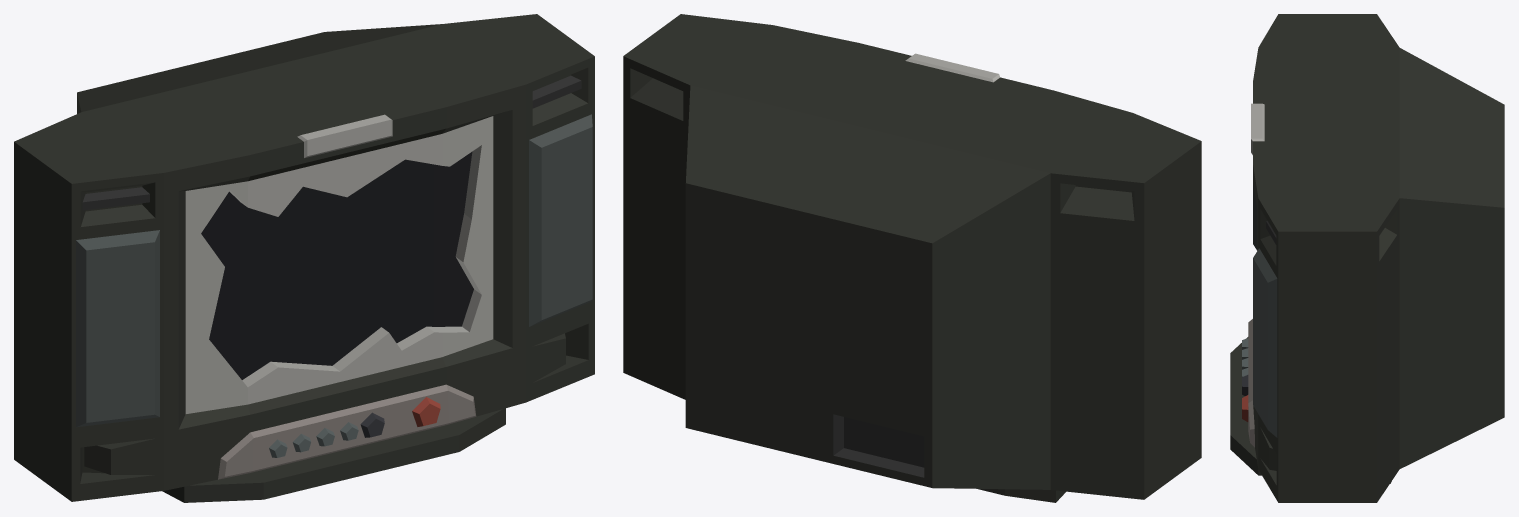
3 renders of one model, left to right at view 1: azimuth 30°, elevation 25°; view 2: azimuth 150°, elevation 25°; view 3: azimuth 270°, elevation 25°, orthographic. The views are drawn at different scales.
Parts seen in each view (by area): view 1: SM_TV; view 2: SM_TV; view 3: SM_TV.
Boxes of the visible parts, box(x1,y1,x2,y2) form: SM_TV: box(14, 14, 594, 502); SM_TV: box(623, 14, 1201, 502); SM_TV: box(1230, 14, 1504, 502).
Bounding box in the file's own units: 1.15 × 0.7101 × 0.6145.
1 material, 1 textured.
